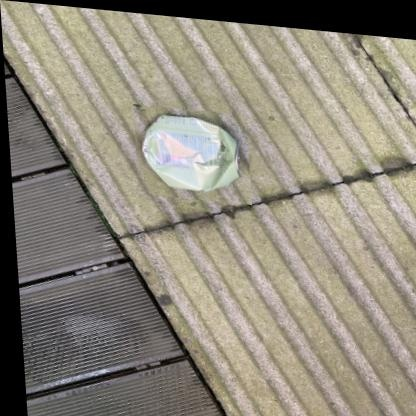trash: (143, 115, 238, 190)
